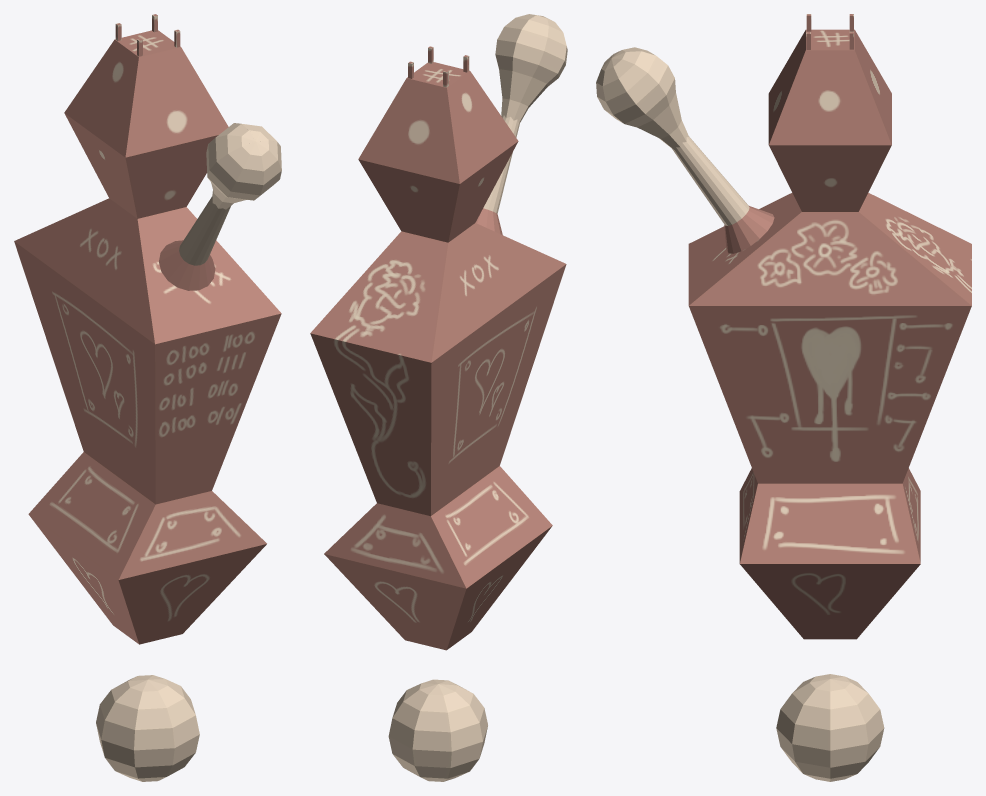
Rendered from good_bot.gltf.
The picture shows the model from 3 angles, left to right: view 1: azimuth 30°, elevation 25°; view 2: azimuth 150°, elevation 25°; view 3: azimuth 270°, elevation 25°; orthographic projection. The views are drawn at different scales.
Visible parts, largest first — view 1: Cube, Cube.001, Cylinder; view 2: Cube, Cube.001, Cylinder; view 3: Cube, Cylinder, Cube.001.
Boxes of the visible parts, x1,y1,x2,y2 form: Cube: (14, 30, 281, 644); Cube.001: (96, 675, 199, 781); Cylinder: (159, 123, 281, 290); Cube: (310, 62, 566, 650); Cube.001: (388, 679, 487, 781); Cylinder: (475, 14, 567, 234); Cube: (688, 29, 971, 639); Cylinder: (596, 47, 774, 253); Cube.001: (776, 674, 884, 781).
Bounding box in the file's own units: 0.8038 × 3.87 × 1.75.
Materials: 1 (1 with a texture image).
